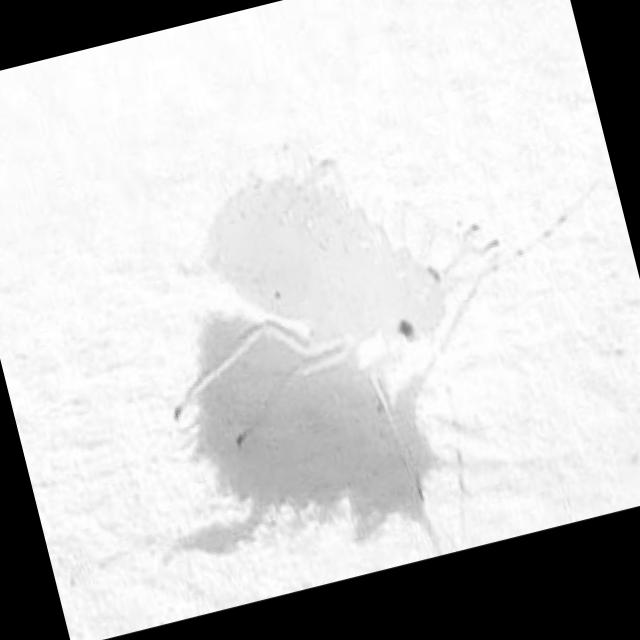Aphids: (52, 38, 610, 575)
